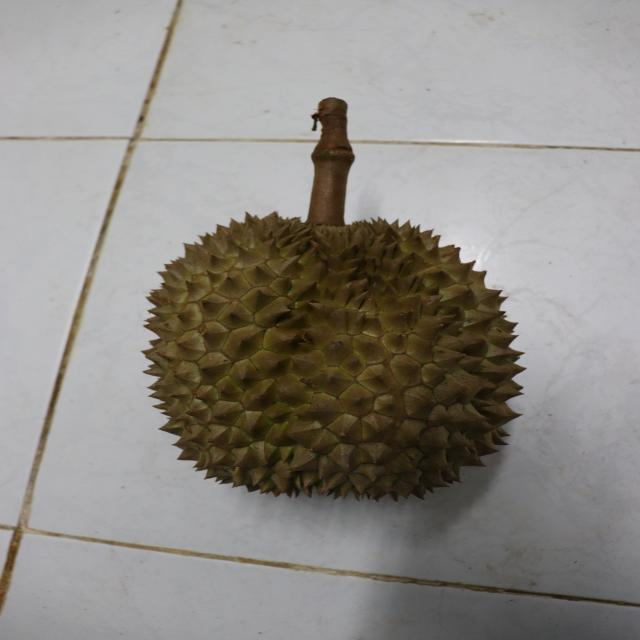mature: (130, 210, 530, 502)
